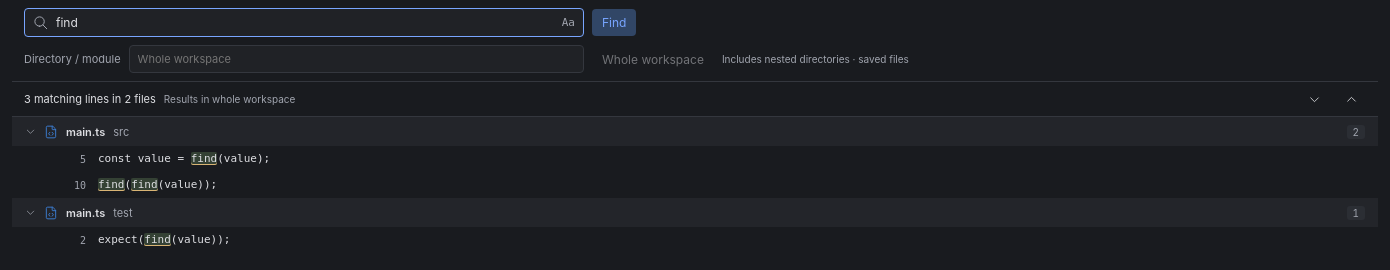
Test: collapses individual files and expands or collapses all files
This screenshot has width=1390, height=270.
Click the button with aria-label "src/main.ts, 2 matching lines": (86, 132) [12,117,1378,146]
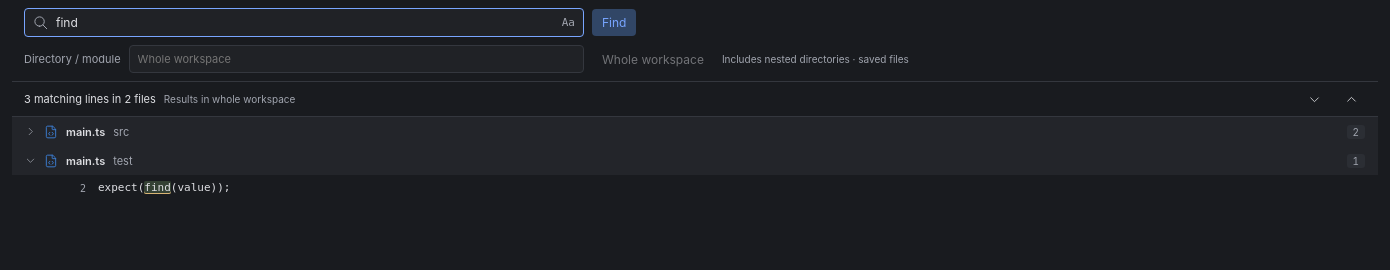
Click the button named "Collapse all files": (1352, 99) [1337,85,1366,113]
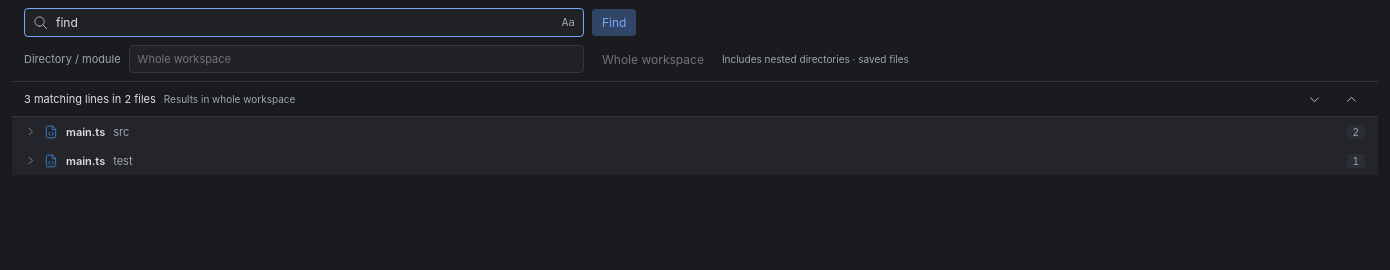
Click the button named "Expand all files": (1314, 99) [1300,85,1329,113]
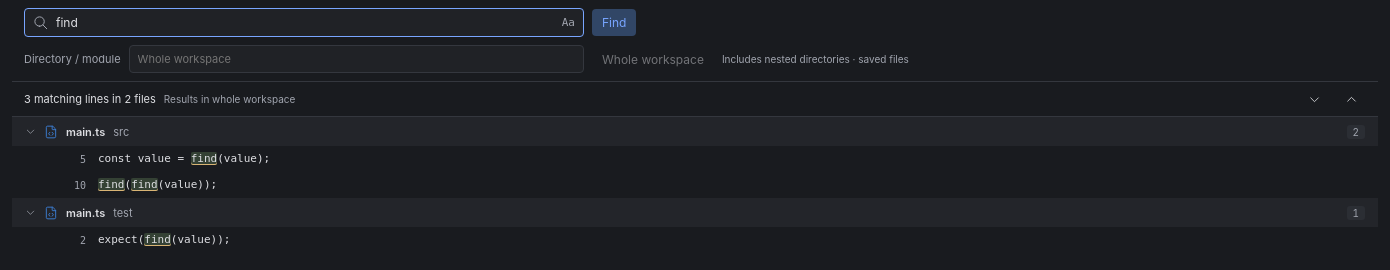
Expected: the number of buttons named "find match" is 3, [12,146,1378,172]; [12,172,1378,198]; [12,227,1378,253]
